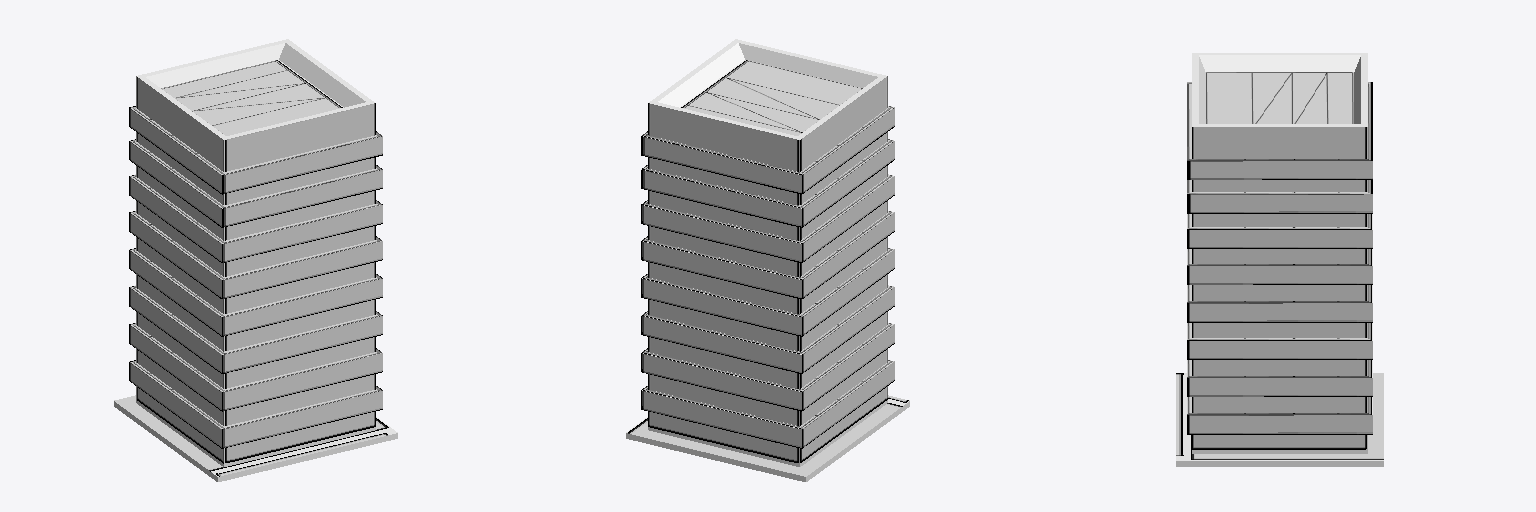
3 renders of one model, left to right at view 1: azimuth 30°, elevation 25°; view 2: azimuth 150°, elevation 25°; view 3: azimuth 270°, elevation 25°, orthographic.
Parts seen in each view (by area): view 1: Cube.007, Cube; view 2: Cube.007, Cube; view 3: Cube, Cube.007.
Part boxes in pixels (left/top/right/bottom): Cube.007: left=114, top=106, right=397, bottom=481; Cube: left=136, top=39, right=375, bottom=466; Cube.007: left=626, top=106, right=909, bottom=481; Cube: left=648, top=39, right=887, bottom=466; Cube: left=1192, top=53, right=1367, bottom=453; Cube.007: left=1176, top=82, right=1383, bottom=466.
Size of the model in its own units: 3.58 by 6.3 by 3.58.
2 materials, 1 textured.